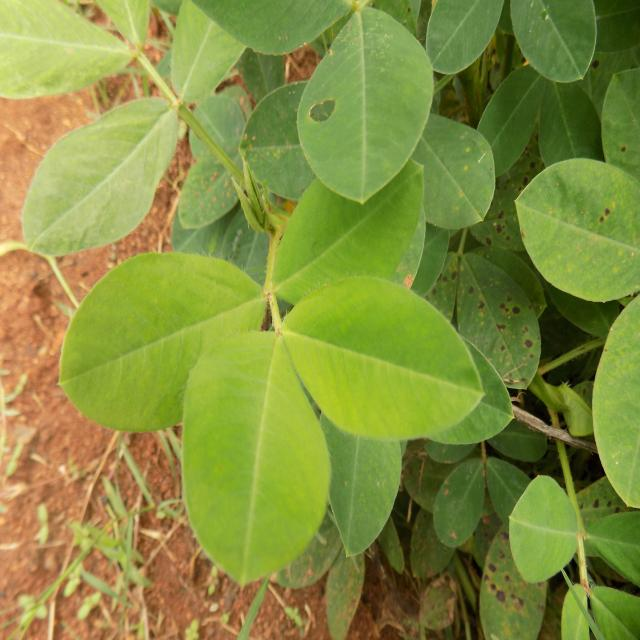Ground nut_healthy: (170, 320, 330, 576), (60, 254, 266, 446), (275, 274, 488, 436), (25, 96, 177, 252), (496, 462, 580, 578)
